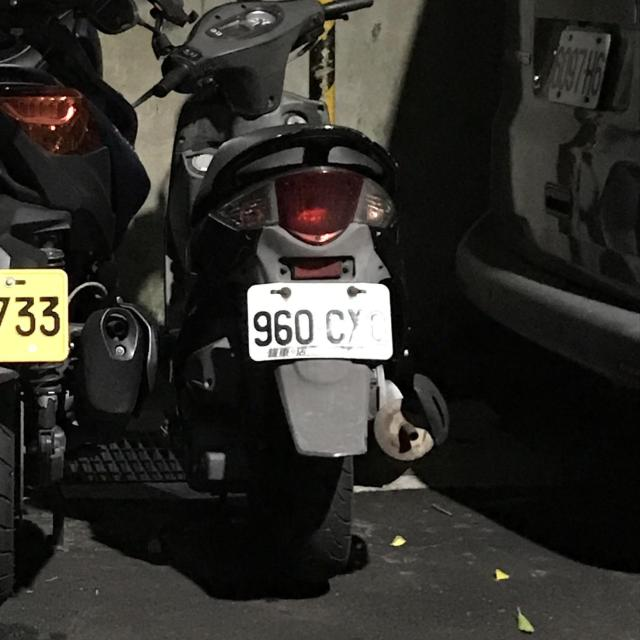W: (241, 274, 397, 368)
Y: (0, 260, 74, 366)
